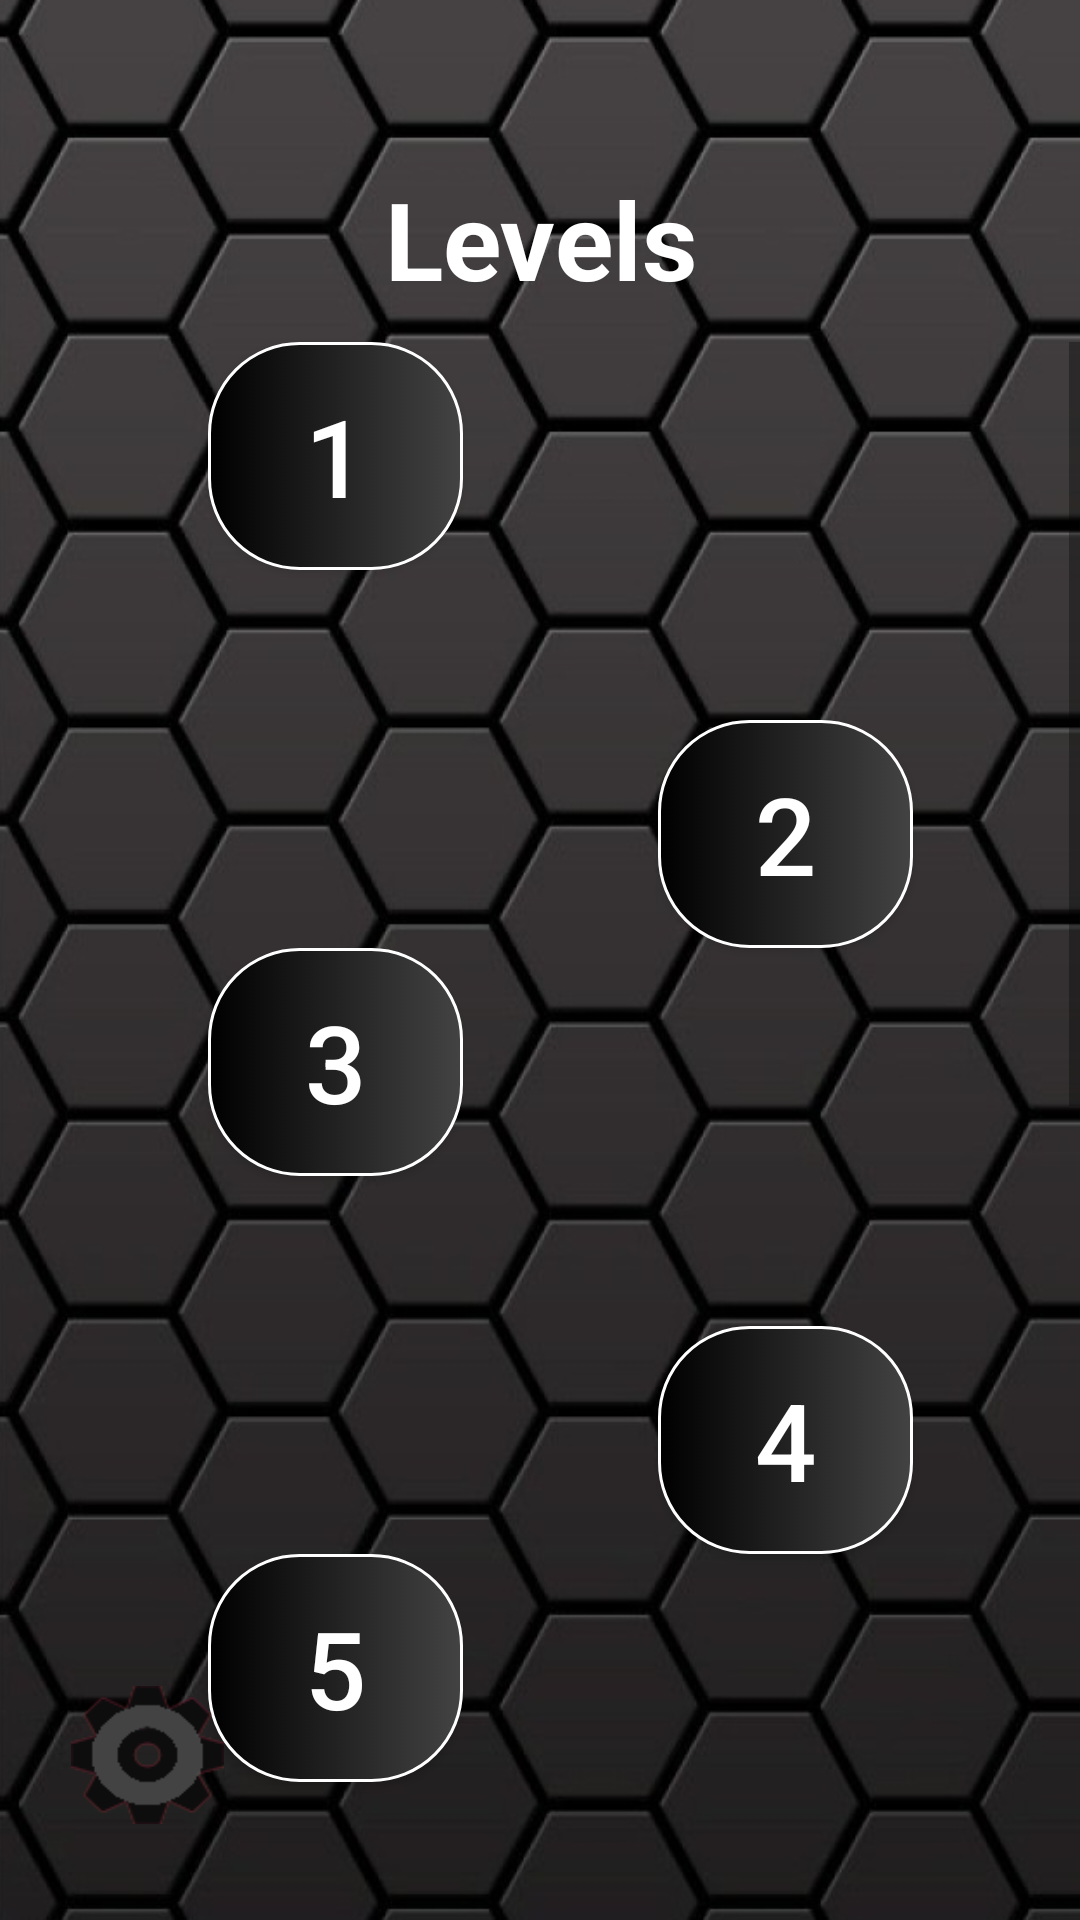

Named icons in this screenshot (1080w x 1920h) and their centers, (x=x, y=y):
gear: (x=147, y=1755)
